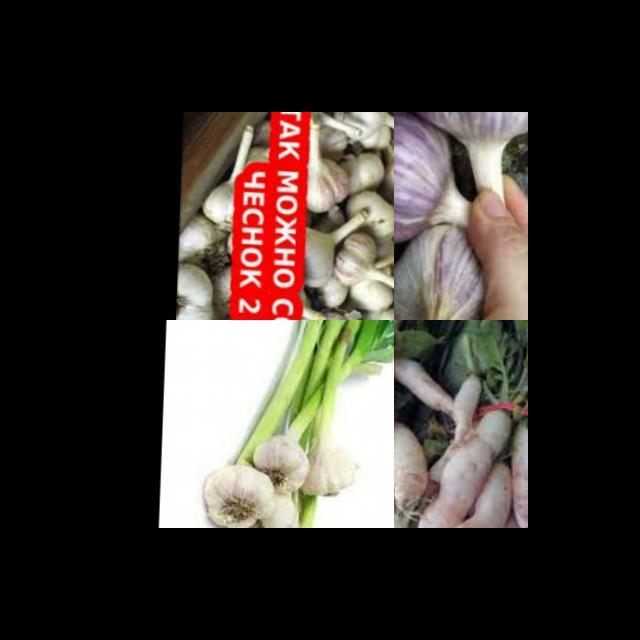garlic: (300, 112, 394, 320), (173, 138, 274, 320), (394, 203, 491, 320), (394, 112, 469, 262), (203, 466, 338, 528), (394, 112, 528, 164), (244, 418, 315, 502), (298, 432, 372, 504)
